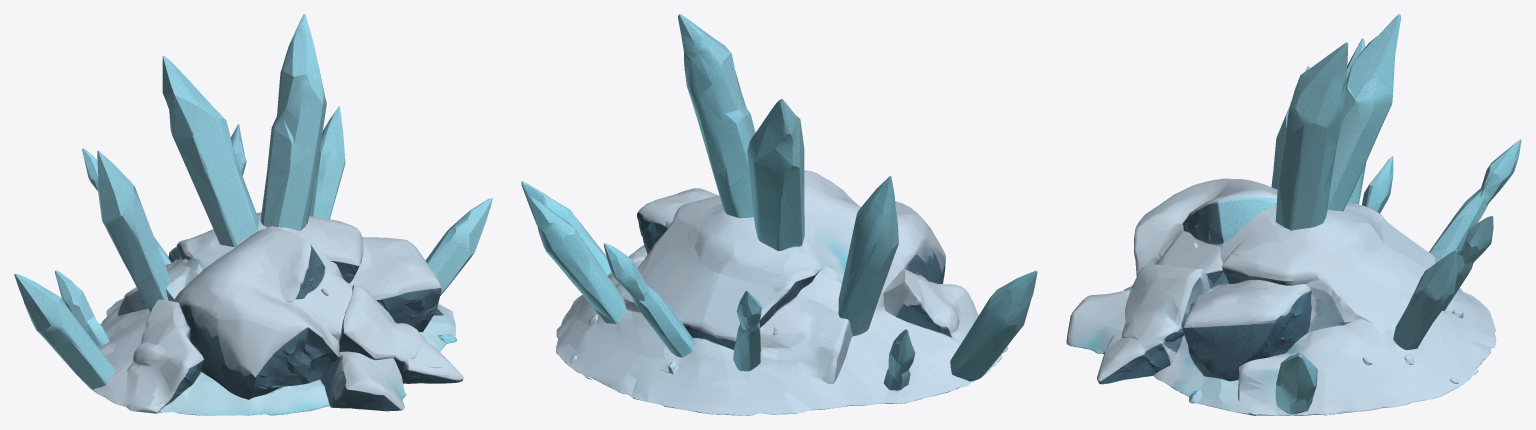
Rendered from crystal_vein.glb.
The picture shows the model from 3 angles, left to right: view 1: azimuth 30°, elevation 25°; view 2: azimuth 150°, elevation 25°; view 3: azimuth 270°, elevation 25°; orthographic projection. The views are drawn at different scales.
Bounding box in the file's own units: 1.9 × 1.13 × 1.46.
1 material, 1 textured.
